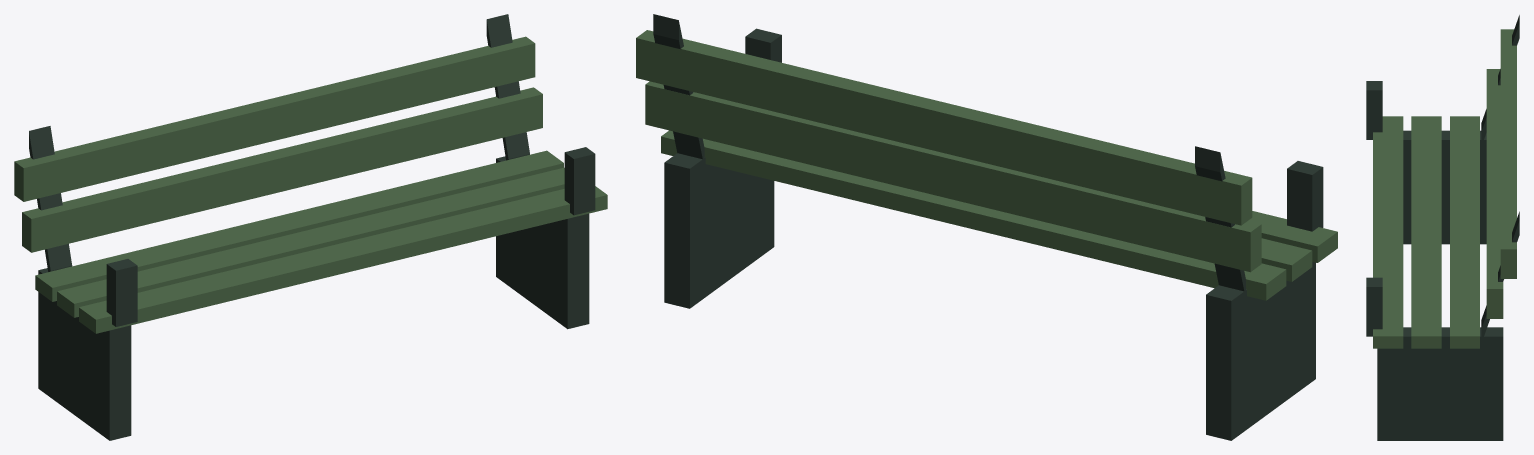
File: life_bench.glb
3 views of the same model, side by side, from view 1: azimuth 30°, elevation 25°; view 2: azimuth 150°, elevation 25°; view 3: azimuth 270°, elevation 25° (orthographic). The views are drawn at different scales.
Parts seen in each view (by area): view 1: life_bench; view 2: life_bench; view 3: life_bench.
Boxes of the visible parts, x1=… form: life_bench: x1=14, y1=14, x2=607, y2=440; life_bench: x1=636, y1=14, x2=1337, y2=440; life_bench: x1=1366, y1=15, x2=1519, y2=440.
Size of the model in its own units: 1.9 by 0.89 by 0.56.
